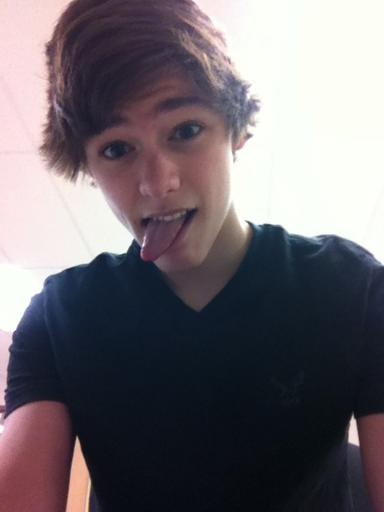left_eye: (168, 122, 207, 147)
left_lip_corner: (188, 203, 204, 222)
right_eye: (99, 141, 138, 165)
right_lip_corner: (134, 215, 150, 229)
